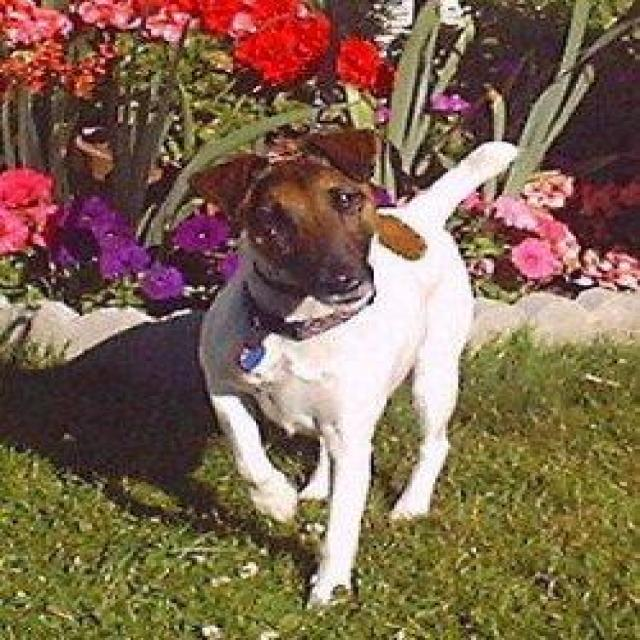toy_terrier: (195, 86, 535, 628)
